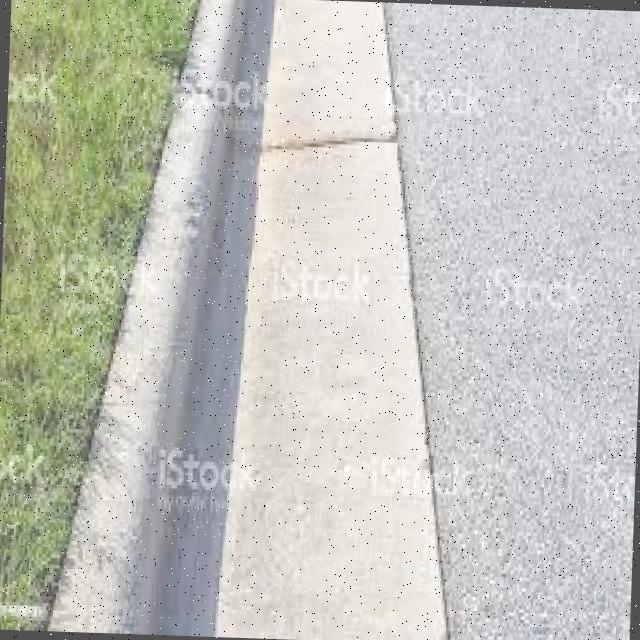curb: (103, 223, 245, 515), (168, 1, 283, 229), (58, 500, 207, 637)
